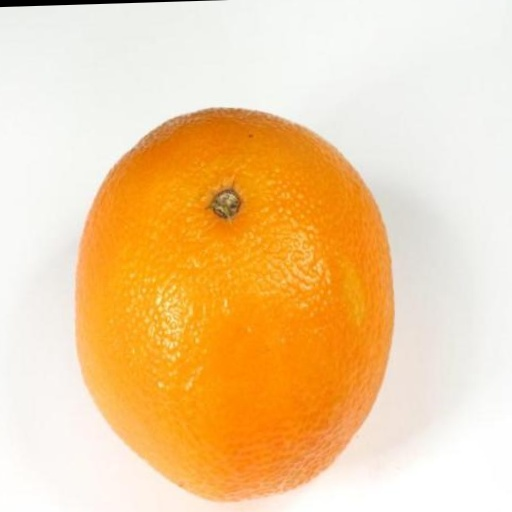fruit: (75, 109, 392, 500)
